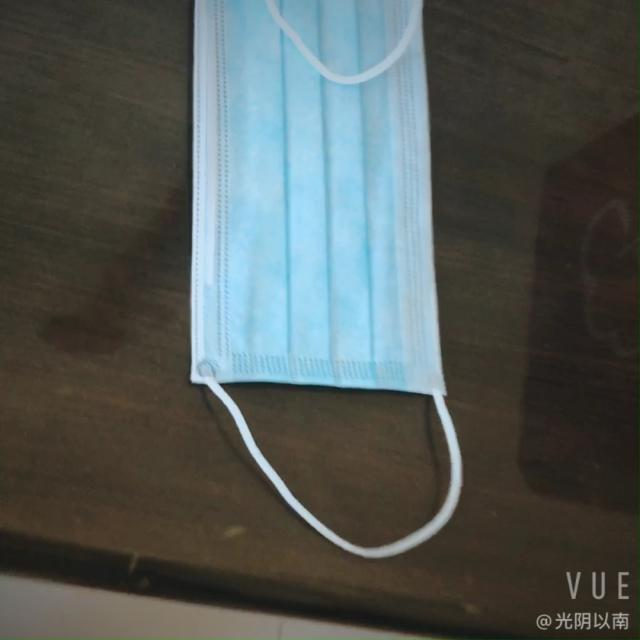face mask: (151, 0, 461, 398)
